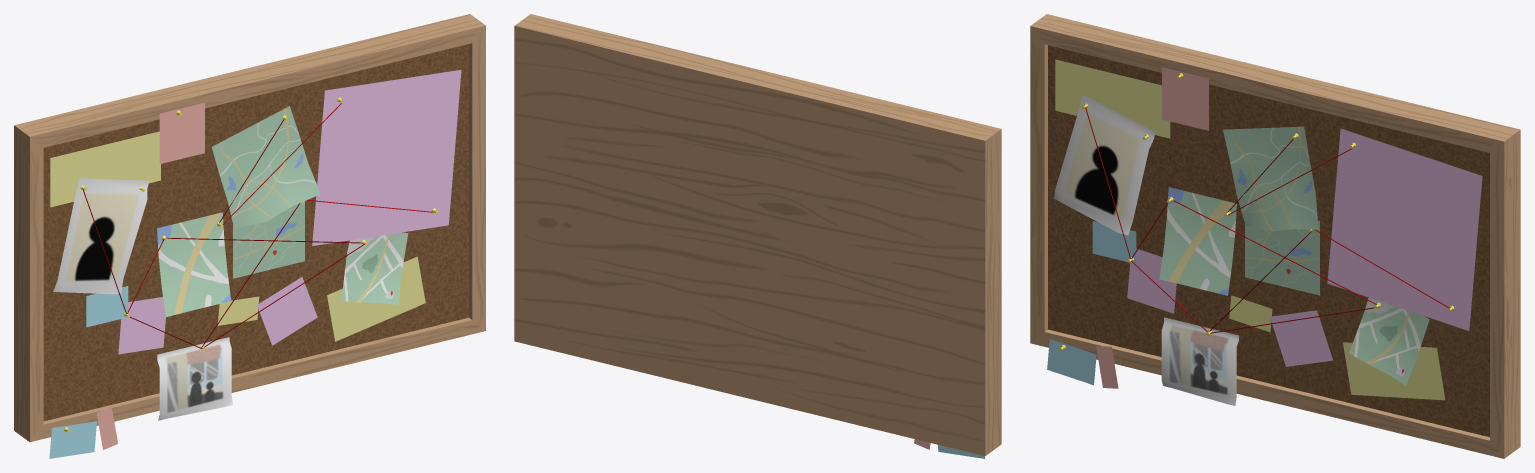
File: bulletin_board.glb
3 views of the same model, side by side, from view 1: azimuth 30°, elevation 25°; view 2: azimuth 150°, elevation 25°; view 3: azimuth 330°, elevation 25° (orthographic). The views are drawn at different scales.
Parts seen in each view (by area): view 1: Board001, Paper003, Paper002, Paper001, Line006; view 2: Board001; view 3: Board001, Paper003, Paper002, Paper001, Line006.
Part boxes in pixels (x1,y1,x2,y2): Board001: [14, 14, 485, 442]; Paper003: [49, 69, 461, 458]; Paper002: [157, 106, 408, 317]; Paper001: [53, 178, 232, 420]; Line006: [82, 103, 432, 348]; Board001: [514, 14, 1001, 456]; Board001: [1030, 14, 1520, 458]; Paper003: [1047, 59, 1482, 400]; Paper002: [1159, 126, 1429, 385]; Paper001: [1054, 94, 1238, 405]; Line006: [1085, 107, 1449, 333].
Size of the model in its own units: 2.5 by 1.73 by 0.2148.
Materials: 6 (5 with a texture image).
